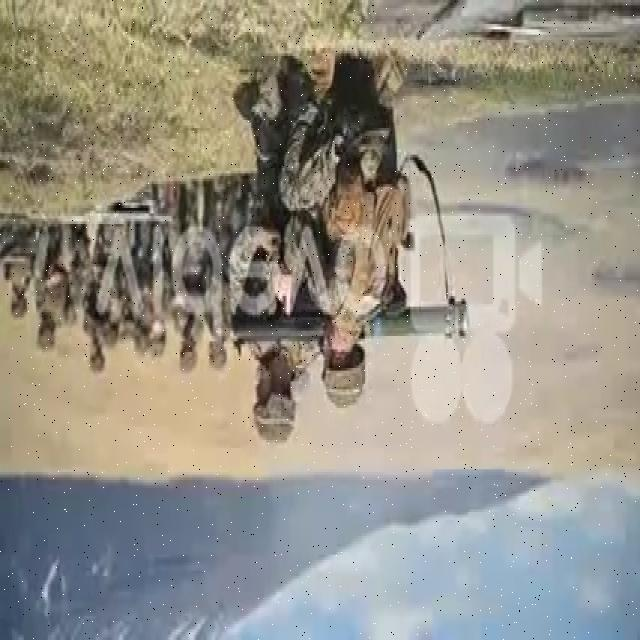bazooka: (229, 292, 473, 358)
